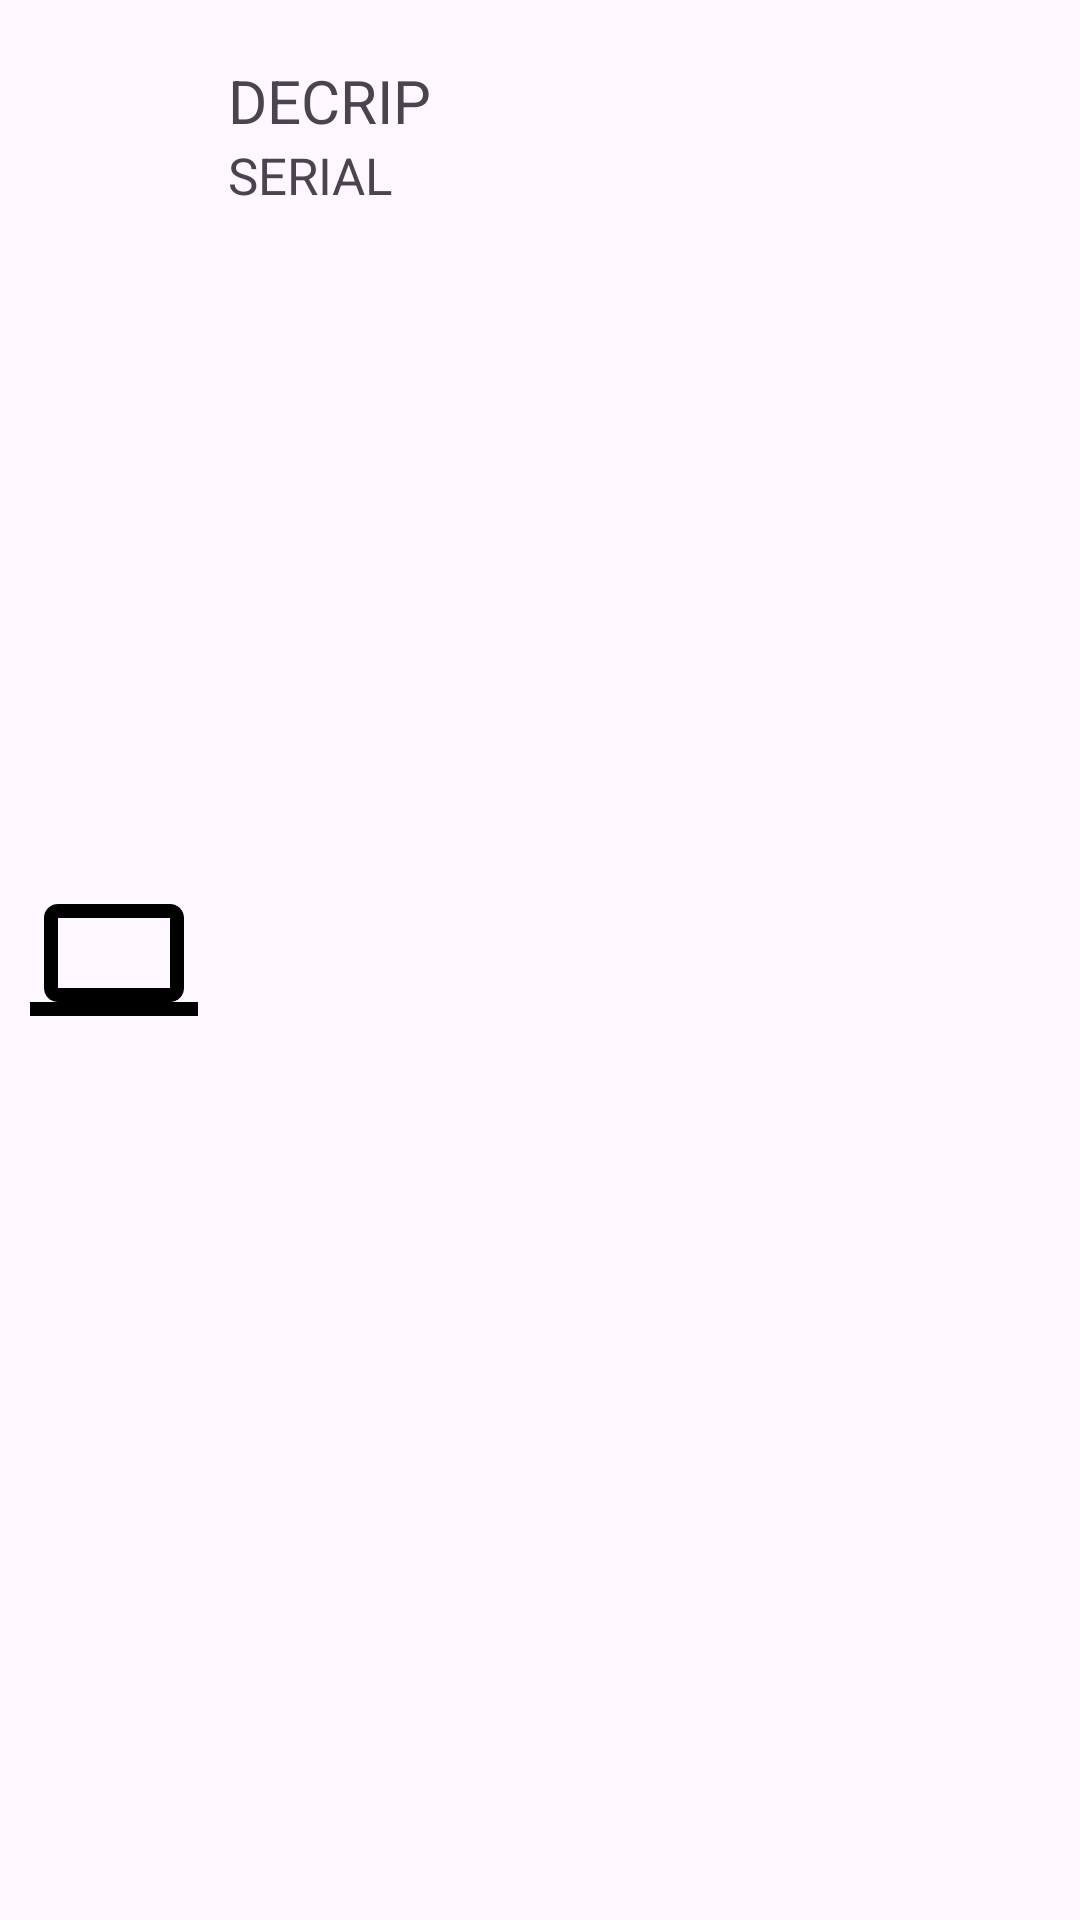

Screen size 1080px×1920px. Icon name, then its center in pixels as [x,y]:
id computer: [114,960]
